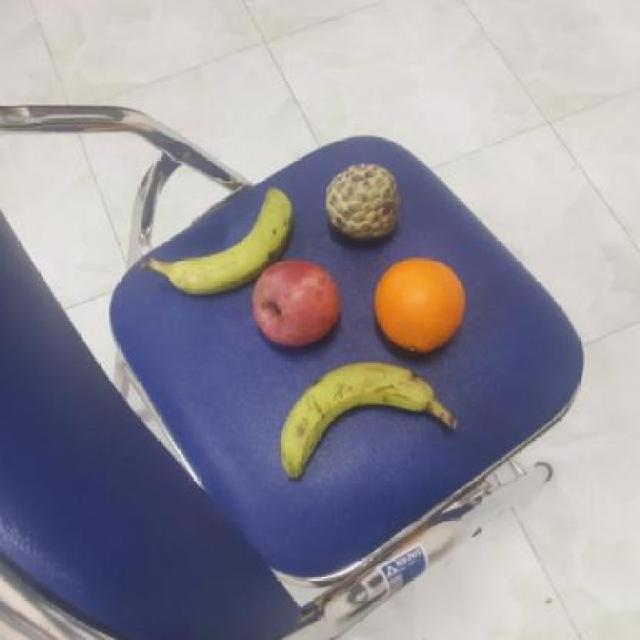apple: (249, 257, 346, 349)
banana: (279, 356, 446, 482), (165, 182, 302, 296)
oren: (372, 251, 470, 358)
sugar apple: (322, 160, 400, 245)
